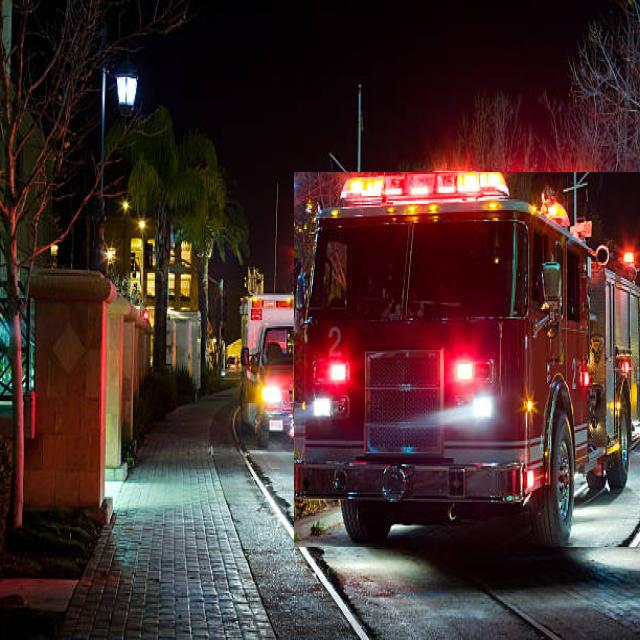emergency: (294, 173, 640, 547)
